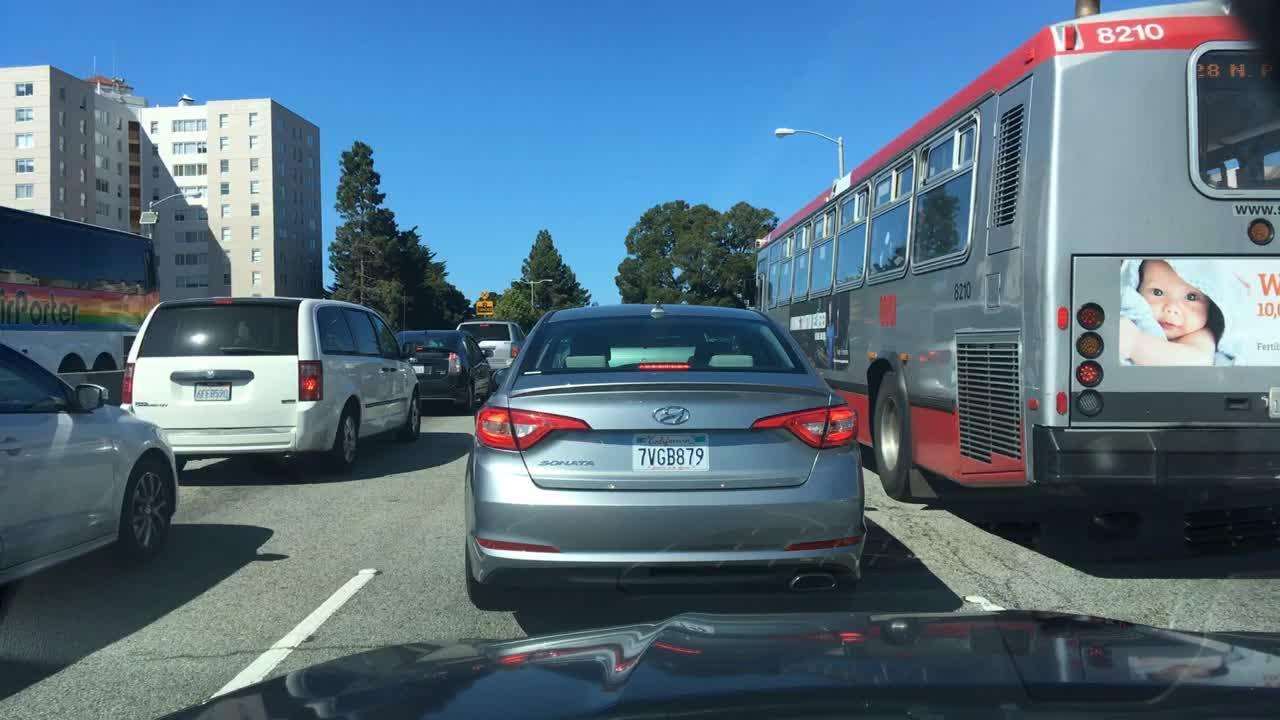Hyundai: (639, 394, 711, 434)
